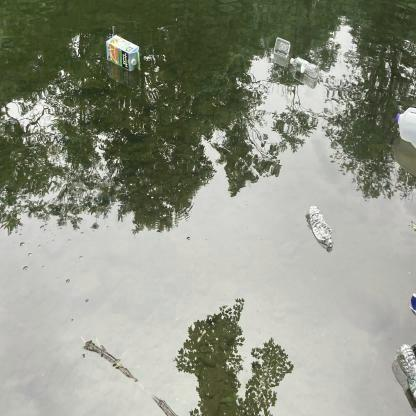Plastic: (304, 199, 336, 254), (394, 336, 416, 408), (391, 98, 416, 151), (287, 51, 324, 80), (273, 30, 293, 59)
Trash: (406, 288, 416, 315)
